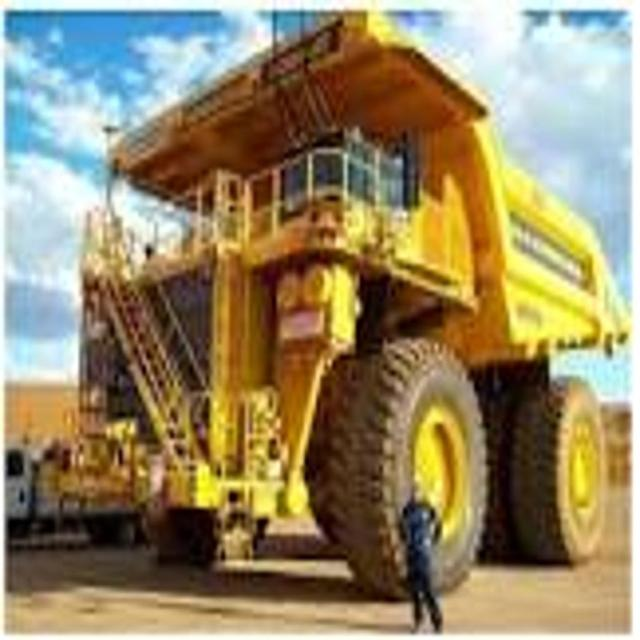dump_truck: (69, 7, 630, 575)
